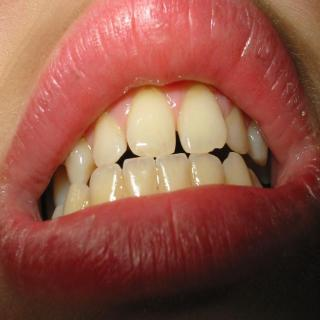maligned: (128, 92, 174, 158), (178, 88, 222, 150), (87, 120, 127, 168), (224, 103, 252, 154), (60, 139, 92, 183)
